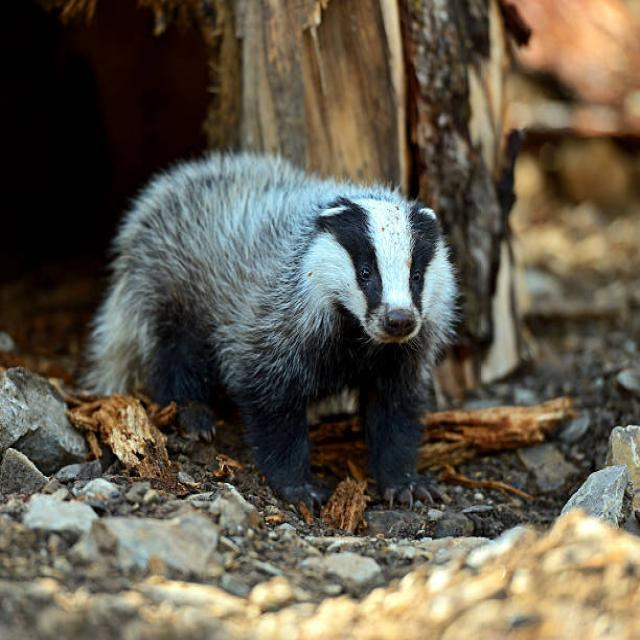Badger: (89, 150, 456, 522)
